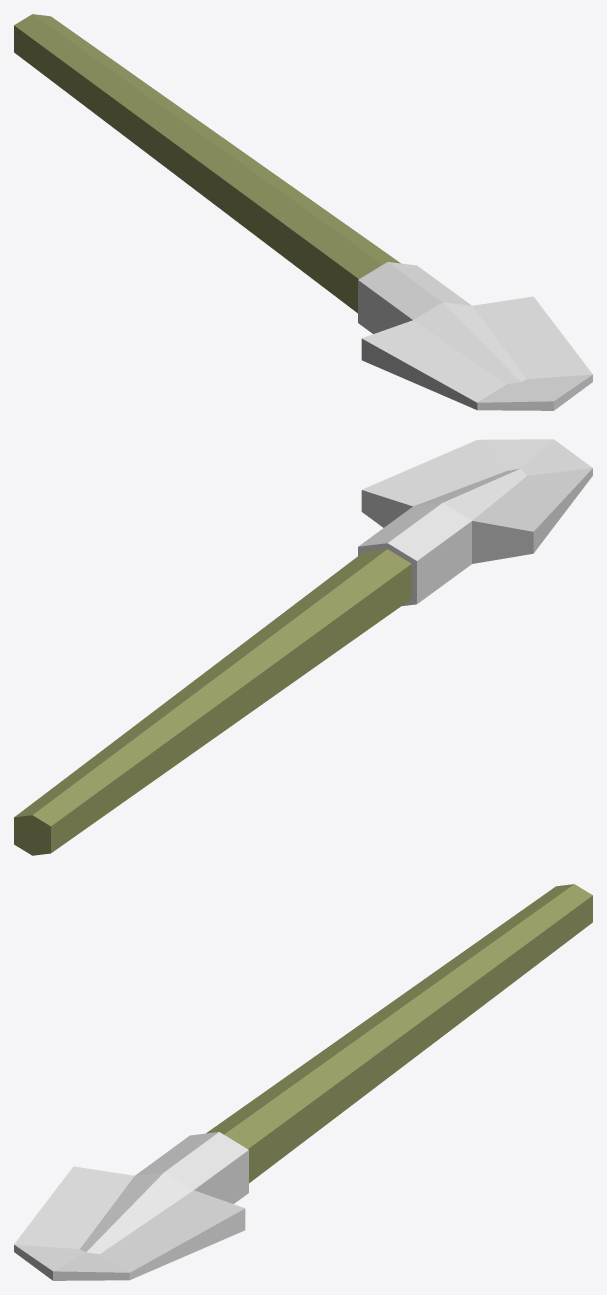
File: shovel_2.fbx
The picture shows the model from 3 angles, top to bottom: view 1: azimuth 30°, elevation 25°; view 2: azimuth 150°, elevation 25°; view 3: azimuth 330°, elevation 25°; orthographic projection.
Parts seen in each view (by area): view 1: Plane; view 2: Plane; view 3: Plane.
Part boxes in pixels (x1,y1,x2,y2): Plane: [14, 14, 592, 410]; Plane: [14, 439, 592, 855]; Plane: [14, 884, 592, 1280].
Size of the model in its own units: 583 by 210 by 3060.
